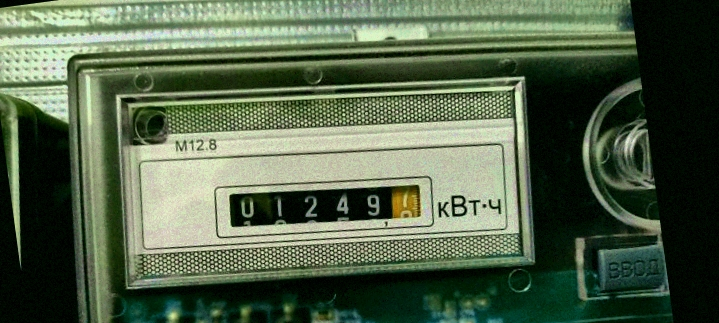0: (236, 192, 257, 220)
1: (268, 191, 286, 219)
2: (299, 193, 319, 221)
4: (332, 189, 351, 216)
7: (395, 182, 414, 210)
9: (361, 190, 382, 218)
screen: (208, 156, 440, 258)
